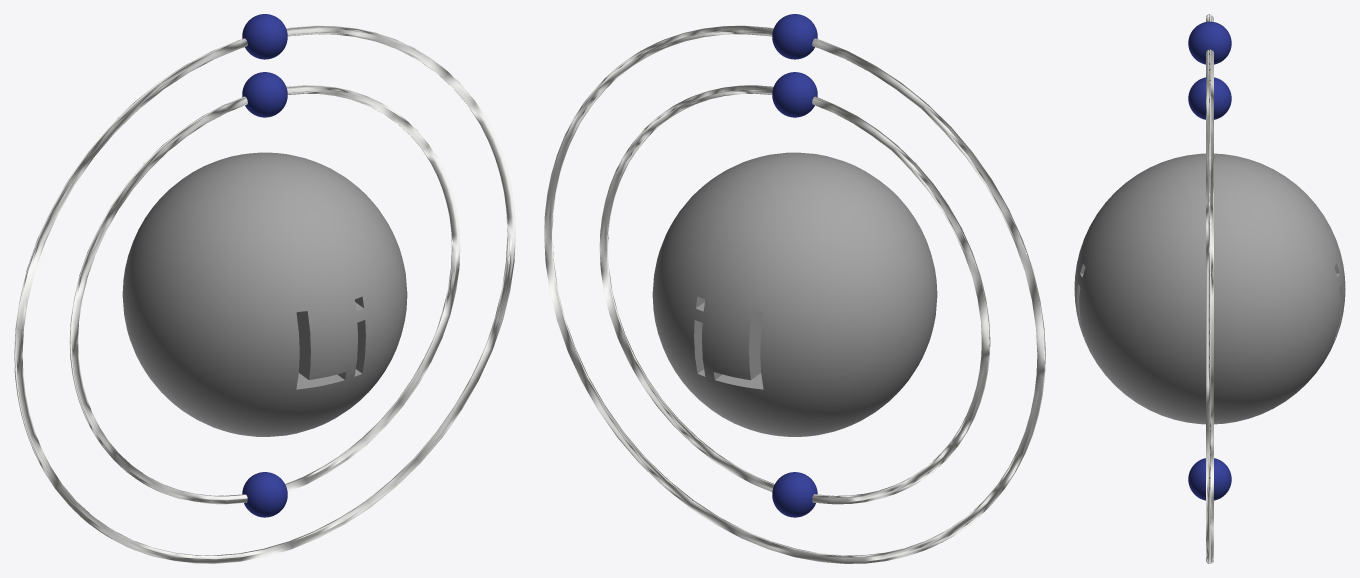
3 views of the same model, side by side, from view 1: azimuth 30°, elevation 25°; view 2: azimuth 150°, elevation 25°; view 3: azimuth 270°, elevation 25° (orthographic). The views are drawn at different scales.
Visible parts, largest first — view 1: Body1, Body3, Body2, Body4, Body5, Body6; view 2: Body1, Body3, Body2, Body5, Body4, Body6; view 3: Body1, Body3, Body5, Body4, Body6.
Boxes of the visible parts, <box> form: Body1: <box>122,152,407,436</box>; Body3: <box>14,25,515,563</box>; Body2: <box>69,85,460,504</box>; Body4: <box>242,72,287,117</box>; Body5: <box>242,14,287,59</box>; Body6: <box>242,472,287,517</box>; Body1: <box>652,152,937,436</box>; Body3: <box>544,25,1045,563</box>; Body2: <box>599,85,990,504</box>; Body5: <box>772,14,817,59</box>; Body4: <box>772,72,817,117</box>; Body6: <box>772,472,817,517</box>; Body1: <box>1074,153,1345,424</box>; Body3: <box>1206,14,1213,563</box>; Body5: <box>1188,21,1231,64</box>; Body4: <box>1188,77,1231,119</box>; Body6: <box>1188,458,1231,500</box>.
Bounding box in the file's own units: 203 × 209 × 100.
